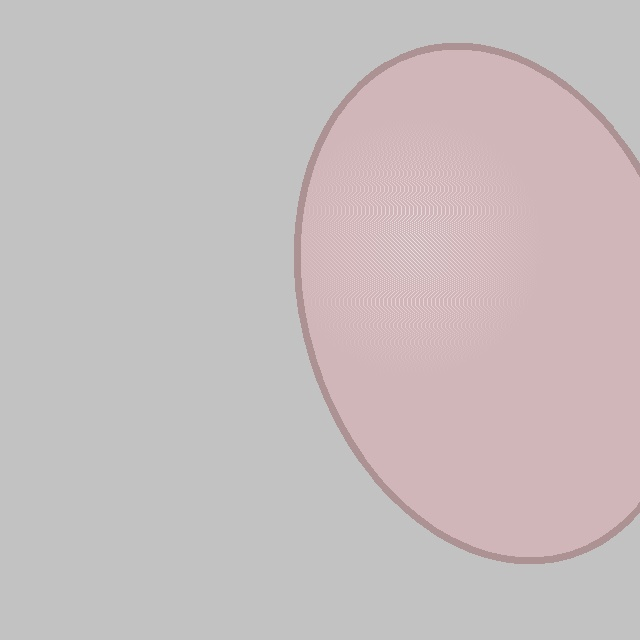lens: (298, 46, 640, 560)
